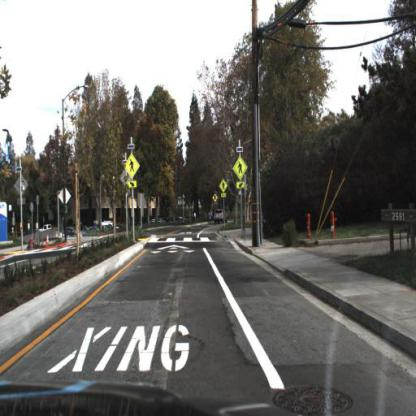car: (214, 209, 228, 225)
